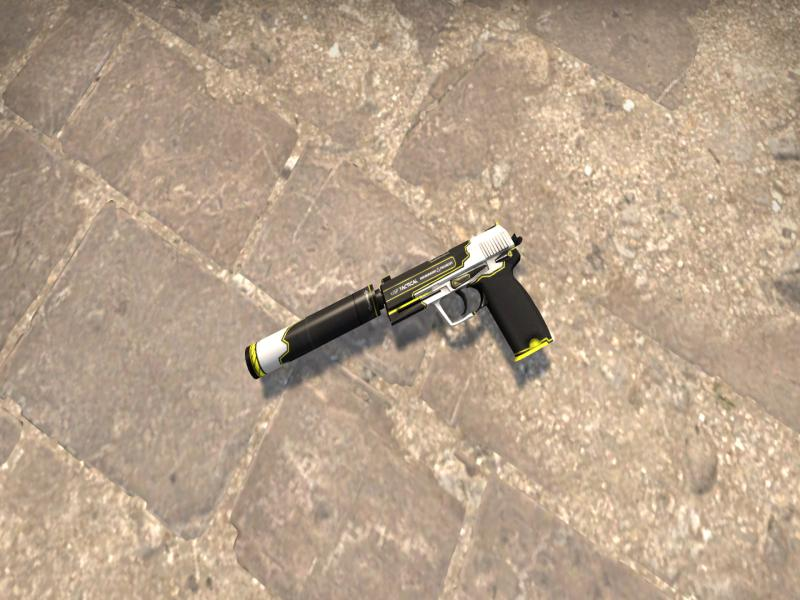USP: (245, 223, 553, 378)
